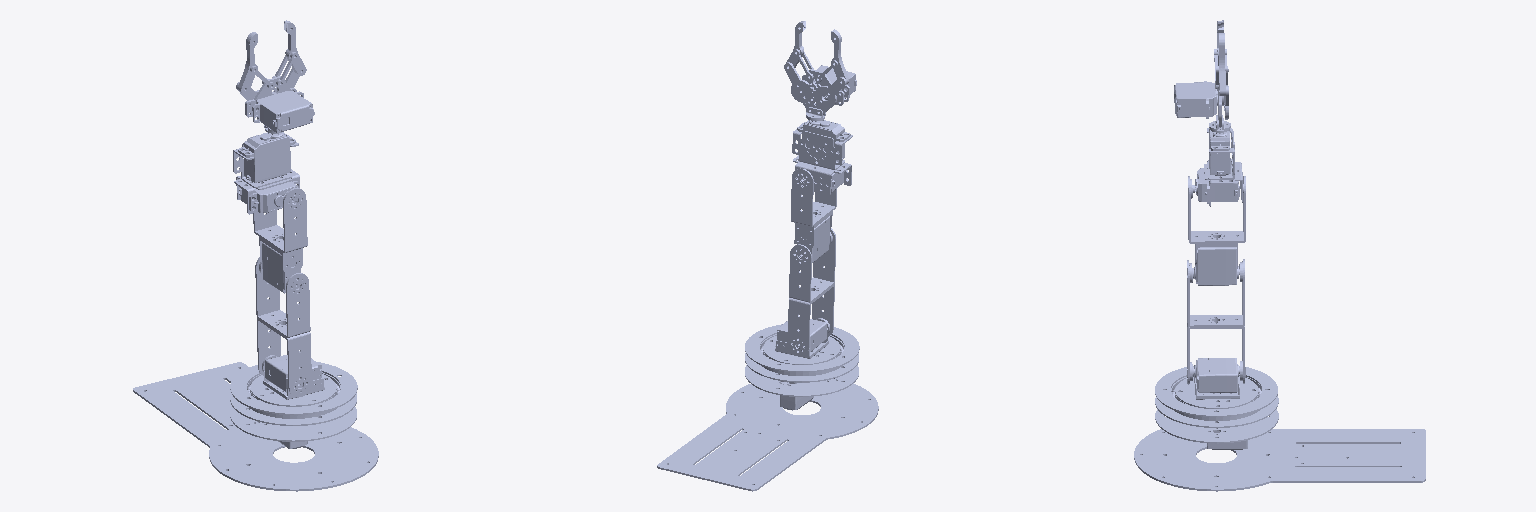
The robot description file, URDF, robot "arnie_arm":
<?xml version="1.0" encoding="utf-8"?>
<!-- This URDF was automatically created by SolidWorks to URDF Exporter! Originally created by [author] ([email redacted]) 
     Commit Version: 1.6.0-4-g7f85cfe  Build Version: 1.6.7995.38578
     For more information, please see http://wiki.ros.org/sw_urdf_exporter -->
<robot
  name="arnie_arm">
  <link name="base_footprint">
    <visual>
      <geometry>
        <cylinder length="0.001" radius="0.01" />
      </geometry>
    </visual>
  </link>
  <link
    name="base_link">
    <inertial>
      <origin
        xyz="-3.34614826419395E-06 0.0224599357675083 0.141633952192689"
        rpy="0 0 0" />
      <mass
        value="0.125679179037249" />
      <inertia
        ixx="0.000463527629043219"
        ixy="2.89832903051209E-11"
        ixz="-1.99302643671286E-08"
        iyy="0.00060205029996915"
        iyz="-1.13083266889567E-08"
        izz="0.000139679151392798" />
    </inertial>
    <visual>
      <origin
        xyz="0 0 0"
        rpy="0 0 0" />
      <geometry>
        <mesh
          filename="package://arnie_arm/meshes/base_link.STL" />
      </geometry>
      <material
        name="">
        <color
          rgba="0.792156862745098 0.819607843137255 0.933333333333333 1" />
      </material>
    </visual>
    <collision>
      <origin
        xyz="0 0 0"
        rpy="0 0 0" />
      <geometry>
        <mesh
          filename="package://arnie_arm/meshes/base_link.STL" />
      </geometry>
    </collision>
  </link>
  <joint name="base_joint" type="fixed">
    <parent link="base_footprint" />
    <child link="base_link" />
  </joint>
  <link
    name="link_1">
    <inertial>
      <origin
        xyz="0.00119083749138019 0.0208363052451188 0.000182263688192371"
        rpy="0 0 0" />
      <mass
        value="0.0651690719541057" />
      <inertia
        ixx="2.95482846469574E-05"
        ixy="1.06852514075809E-11"
        ixz="1.5197056362071E-08"
        iyy="5.42372182200336E-05"
        iyz="6.85162055241158E-09"
        izz="2.68653719447419E-05" />
    </inertial>
    <visual>
      <origin
        xyz="0 0 0"
        rpy="0 0 0" />
      <geometry>
        <mesh
          filename="package://arnie_arm/meshes/link_1.STL" />
      </geometry>
      <material
        name="">
        <color
          rgba="0.792156862745098 0.819607843137255 0.933333333333333 1" />
      </material>
    </visual>
    <collision>
      <origin
        xyz="0 0 0"
        rpy="0 0 0" />
      <geometry>
        <mesh
          filename="package://arnie_arm/meshes/link_1.STL" />
      </geometry>
    </collision>
  </link>
  <joint
    name="joint0"
    type="continuous">
    <origin
      xyz="0 -0.17621 0.054047"
      rpy="1.5708 0 -1.5339" />
    <parent
      link="base_link" />
    <child
      link="link_1" />
    <axis
      xyz="0 1 0" />
    <limit
      lower="-1.57"
      upper="1.57"
      effort="1.67"
      velocity="7.48" />
  </joint>
  <link
    name="link_2">
    <inertial>
      <origin
        xyz="0.0006573745228238 0.0520000283592363 -2.95915070815111E-08"
        rpy="0 0 0" />
      <mass
        value="0.0193859305204016" />
      <inertia
        ixx="7.34068970066482E-06"
        ixy="-1.19612302255315E-12"
        ixz="9.32644239699847E-13"
        iyy="1.03989262522444E-05"
        iyz="-1.95263754746651E-14"
        izz="1.58454742276257E-05" />
    </inertial>
    <visual>
      <origin
        xyz="0 0 0"
        rpy="0 0 0" />
      <geometry>
        <mesh
          filename="package://arnie_arm/meshes/link_2.STL" />
      </geometry>
      <material
        name="">
        <color
          rgba="0.792156862745098 0.819607843137255 0.933333333333333 1" />
      </material>
    </visual>
    <collision>
      <origin
        xyz="0 0 0"
        rpy="0 0 0" />
      <geometry>
        <mesh
          filename="package://arnie_arm/meshes/link_2.STL" />
      </geometry>
    </collision>
  </link>
  <joint
    name="joint1"
    type="continuous">
    <origin
      xyz="0 0.033805 0.01"
      rpy="0.028973 0 0" />
    <parent
      link="link_1" />
    <child
      link="link_2" />
    <axis
      xyz="1 0 0" />
    <limit
      lower="-1.57"
      upper="1.57"
      effort="1.67"
      velocity="6.545" />
  </joint>
  <link
    name="link_3">
    <inertial>
      <origin
        xyz="0.00222865379193118 0.0225634967400098 1.2690659186753E-05"
        rpy="0 0 0" />
      <mass
        value="0.0378697616915954" />
      <inertia
        ixx="8.27807942818863E-06"
        ixy="-3.49698282289638E-08"
        ixz="3.32730001376912E-11"
        iyy="7.30648833557351E-06"
        iyz="-1.82439785391689E-11"
        izz="1.26361909950192E-05" />
    </inertial>
    <visual>
      <origin
        xyz="0 0 0"
        rpy="0 0 0" />
      <geometry>
        <mesh
          filename="package://arnie_arm/meshes/link_3.STL" />
      </geometry>
      <material
        name="">
        <color
          rgba="0.792156862745098 0.819607843137255 0.933333333333333 1" />
      </material>
    </visual>
    <collision>
      <origin
        xyz="0 0 0"
        rpy="0 0 0" />
      <geometry>
        <mesh
          filename="package://arnie_arm/meshes/link_3.STL" />
      </geometry>
    </collision>
  </link>
  <joint
    name="joint2"
    type="continuous">
    <origin
      xyz="0 0.104 0"
      rpy="0 0 0" />
    <parent
      link="link_2" />
    <child
      link="link_3" />
    <axis
      xyz="1 0 0" />
    <limit
      lower="-1.57"
      upper="1.57"
      effort="1.67"
      velocity="6.545" />
  </joint>
  <link
    name="link_4">
    <inertial>
      <origin
        xyz="-0.00391386704699936 0.0206380014073989 0.00877173512480331"
        rpy="0 0 0" />
      <mass
        value="0.0218956225021139" />
      <inertia
        ixx="5.97981484681651E-06"
        ixy="-3.33949493504651E-14"
        ixz="2.09924105498751E-08"
        iyy="5.97981465126978E-06"
        iyz="2.1778820030558E-08"
        izz="2.82232465207594E-06" />
    </inertial>
    <visual>
      <origin
        xyz="0 0 0"
        rpy="0 0 0" />
      <geometry>
        <mesh
          filename="package://arnie_arm/meshes/link_4.STL" />
      </geometry>
      <material
        name="">
        <color
          rgba="0.792156862745098 0.819607843137255 0.933333333333333 1" />
      </material>
    </visual>
    <collision>
      <origin
        xyz="0 0 0"
        rpy="0 0 0" />
      <geometry>
        <mesh
          filename="package://arnie_arm/meshes/link_4.STL" />
      </geometry>
    </collision>
  </link>
  <joint
    name="joint3"
    type="continuous">
    <origin
      xyz="0 0.088419 0.0007415"
      rpy="0 0 0" />
    <parent
      link="link_3" />
    <child
      link="link_4" />
    <axis
      xyz="1 0 0" />
    <limit
      lower="-1.57"
      upper="1.57"
      effort="1.5"
      velocity="4" />
  </joint>
  <link
    name="end_effector">
    <inertial>
      <origin
        xyz="-0.00238426677096577 0.0430576316290442 0.00284386614487908"
        rpy="0 0 0" />
      <mass
        value="0.0247141839115583" />
      <inertia
        ixx="3.27640132184026E-06"
        ixy="2.75064060652136E-08"
        ixz="-2.13558743468507E-08"
        iyy="2.64998425557183E-06"
        iyz="1.02544418210255E-10"
        izz="5.60492242116952E-06" />
    </inertial>
    <visual>
      <origin
        xyz="0 0 0"
        rpy="0 0 0" />
      <geometry>
        <mesh
          filename="package://arnie_arm/meshes/end_effector.STL" />
      </geometry>
      <material
        name="">
        <color
          rgba="0.792156862745098 0.819607843137255 0.933333333333333 1" />
      </material>
    </visual>
    <collision>
      <origin
        xyz="0 0 0"
        rpy="0 0 0" />
      <geometry>
        <mesh
          filename="package://arnie_arm/meshes/end_effector.STL" />
      </geometry>
    </collision>
  </link>
  <joint
    name="joint4"
    type="continuous">
    <origin
      xyz="-0.0034694 0.060255 0"
      rpy="-3.0506 1.5708 -3.0505" />
    <parent
      link="link_4" />
    <child
      link="end_effector" />
    <axis
      xyz="0 1 0" />
    <limit
      lower="-1.57"
      upper="1.57"
      effort="1.5"
      velocity="4" />
  </joint>
</robot>

--- What the picture shows (computed from the rendered views, not written in the file) ---
3 views of the same robot in one strip: view 1: azimuth 30°, elevation 25°; view 2: azimuth 150°, elevation 25°; view 3: azimuth 270°, elevation 25° (orthographic).
Model arnie_arm with 7 links and 6 joints (5 continuous, 1 fixed), rooted at base_footprint, posed every joint at zero.
Links seen in each view (by area): view 1: base_link, link_2, end_effector, link_4, link_3, link_1; view 2: base_link, link_2, end_effector, link_4, link_3, link_1; view 3: base_link, link_1, link_3, end_effector, link_4, link_2.
Boxes of the visible links, <box> form: base_link: <box>133,362,378,491</box>; link_2: <box>255,257,311,397</box>; end_effector: <box>236,20,314,133</box>; link_4: <box>233,132,299,214</box>; link_3: <box>253,188,307,293</box>; link_1: <box>247,351,340,418</box>; base_link: <box>657,324,878,491</box>; link_2: <box>788,228,835,356</box>; end_effector: <box>784,21,856,120</box>; link_4: <box>792,120,852,195</box>; link_3: <box>791,168,836,262</box>; link_1: <box>760,319,844,375</box>; base_link: <box>1134,366,1425,491</box>; link_1: <box>1171,358,1261,421</box>; link_3: <box>1188,176,1245,285</box>; end_effector: <box>1174,20,1230,132</box>; link_4: <box>1195,128,1242,206</box>; link_2: <box>1187,259,1245,384</box>.
Bounding box of the posed robot: 0.16 × 0.2827 × 0.4516 m (x, y, z).
6 mesh visuals loaded from 6 distinct referenced files (6 binary STL).
